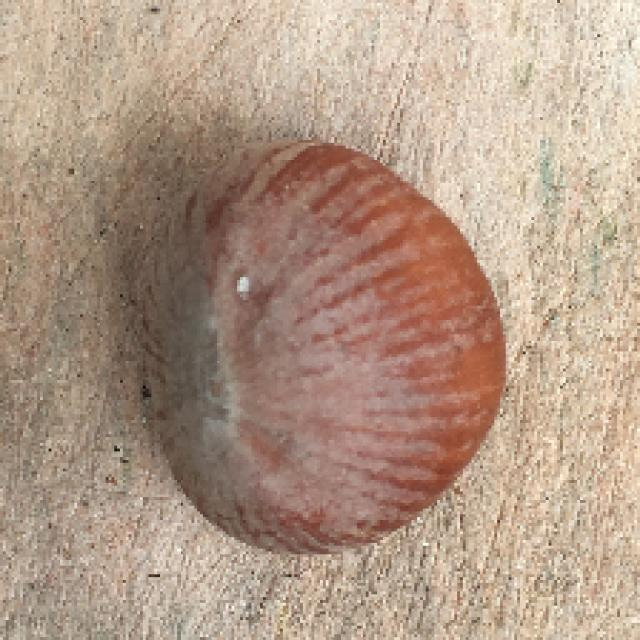QualityHazelnut: (138, 141, 510, 558)
